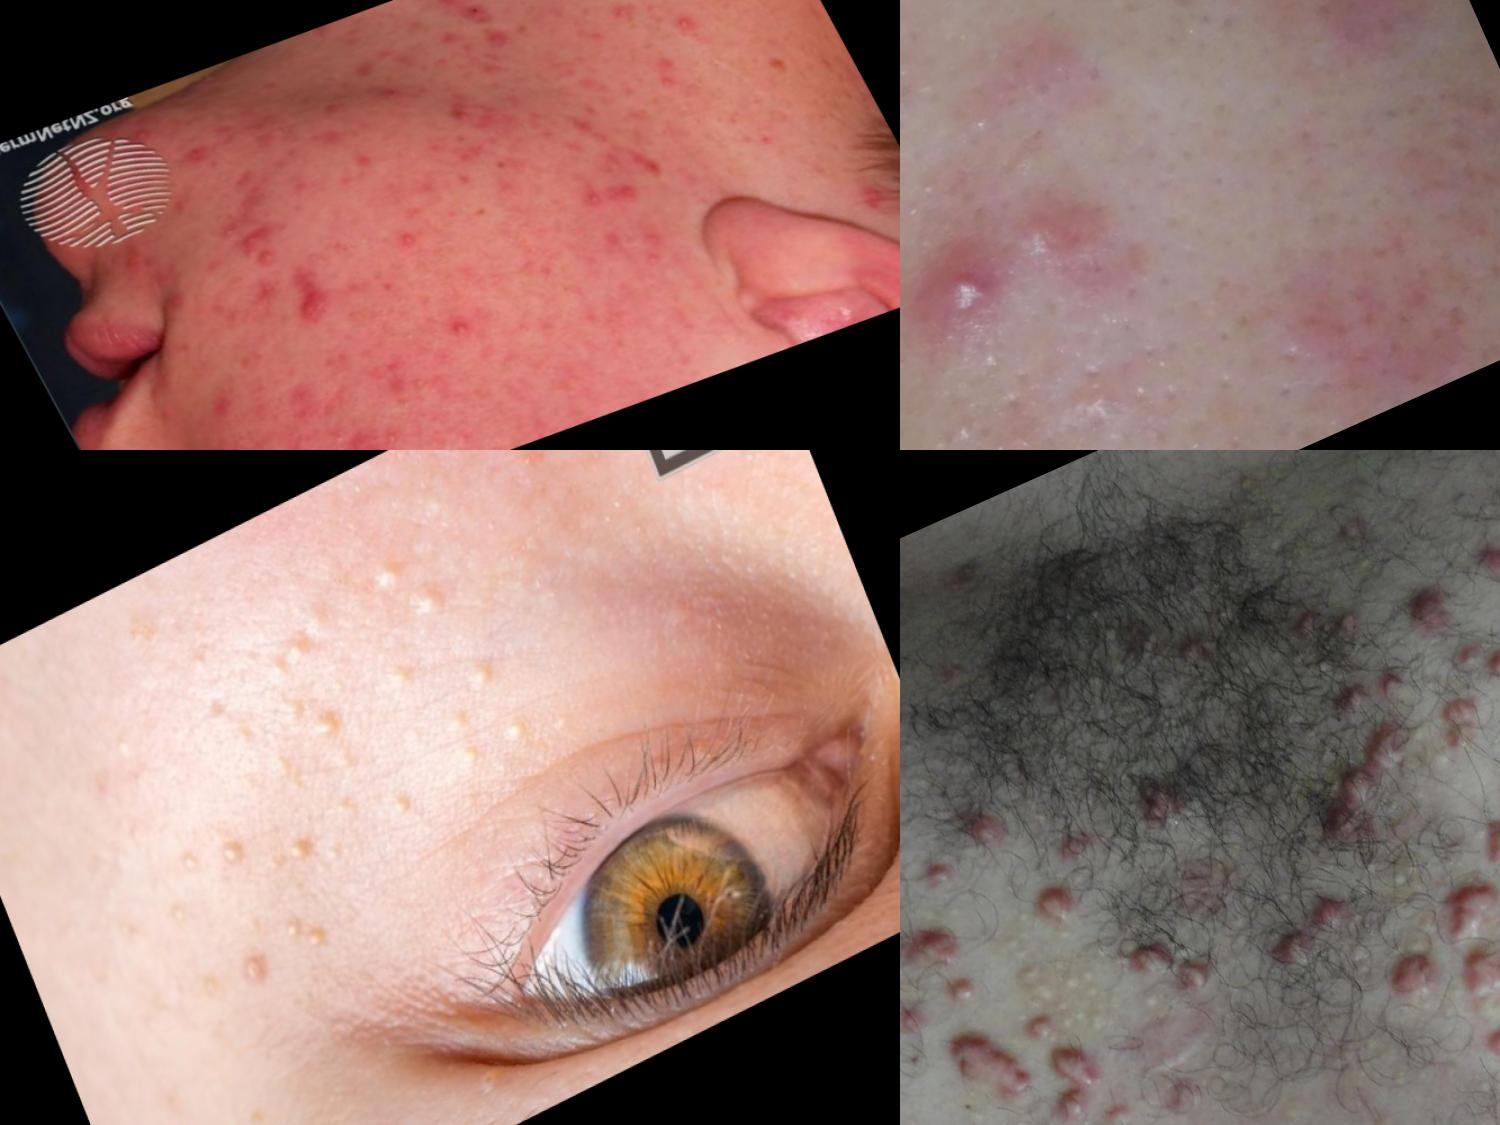keloid: (1279, 710, 1452, 874), (1108, 906, 1245, 1038), (901, 794, 1032, 906), (932, 1001, 1050, 1125), (1017, 1028, 1131, 1125), (1257, 887, 1370, 982), (1423, 865, 1500, 960), (901, 908, 981, 988), (1375, 936, 1454, 1017), (1437, 614, 1500, 707), (1426, 691, 1496, 767), (1029, 871, 1093, 935), (1449, 942, 1500, 1020), (1470, 798, 1500, 905), (1469, 1004, 1500, 1084)
milium: (138, 812, 268, 952), (236, 597, 345, 697), (439, 681, 543, 778), (373, 542, 457, 639), (272, 672, 351, 759), (278, 817, 354, 895), (272, 902, 345, 982), (457, 646, 509, 701), (381, 651, 428, 700), (385, 787, 420, 830)
papular: (901, 215, 1029, 363), (1016, 186, 1124, 282), (148, 264, 204, 321), (602, 165, 661, 208), (928, 435, 1020, 451), (204, 378, 239, 416), (234, 220, 270, 253)
purulent: (390, 212, 441, 260), (437, 308, 480, 349), (432, 1, 495, 14)
sebo-crystan-conglo: (272, 259, 344, 342)
